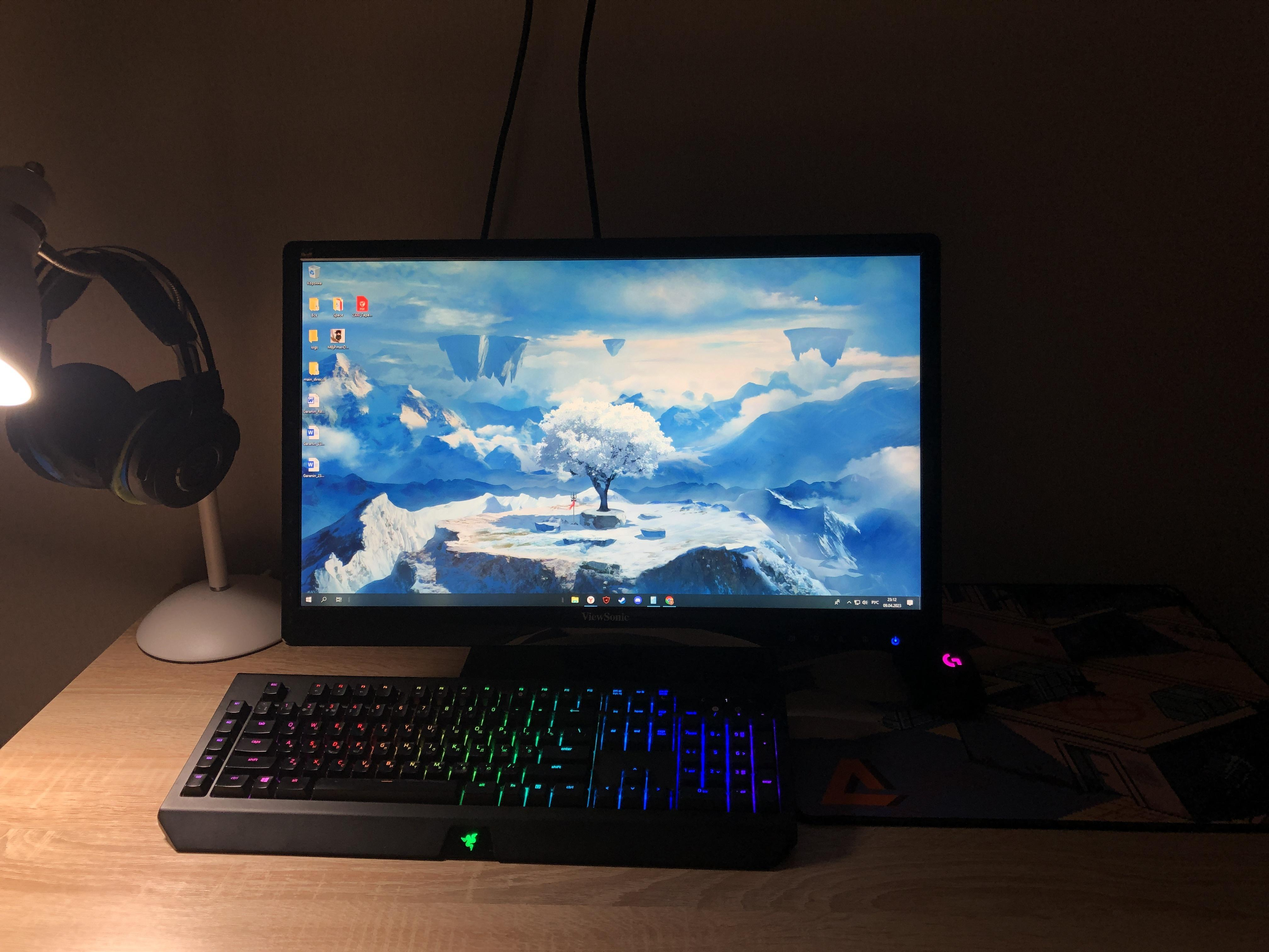monitor: (274, 227, 952, 664)
